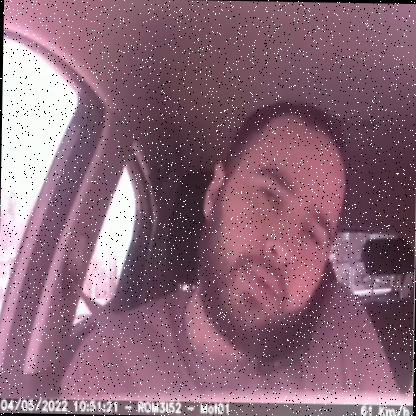phone: (257, 254, 336, 374)
